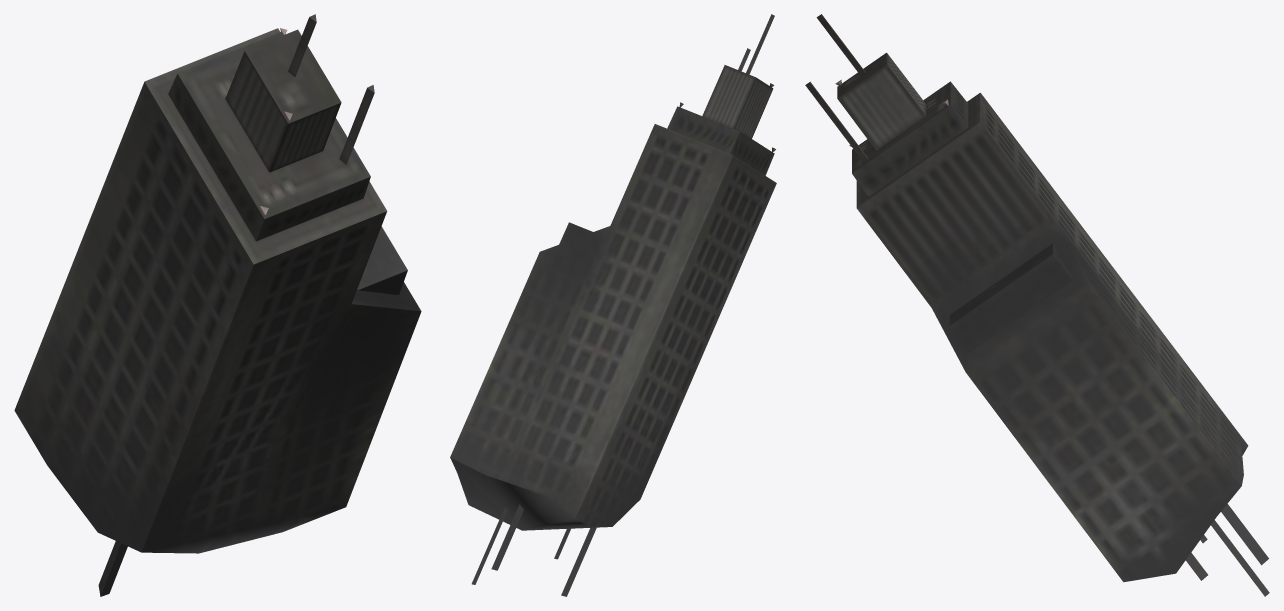
File: skyBuildingAAB_pos_grp (9).fbx
3 renders of one model, left to right at view 1: azimuth 30°, elevation 25°; view 2: azimuth 150°, elevation 25°; view 3: azimuth 270°, elevation 25°, orthographic. The views are drawn at different scales.
Parts seen in each view (by area): view 1: skyBuildingAAB_geo; view 2: skyBuildingAAB_geo; view 3: skyBuildingAAB_geo.
Boxes of the visible parts, <box> form: skyBuildingAAB_geo: <box>14,14,421,596</box>; skyBuildingAAB_geo: <box>450,14,776,596</box>; skyBuildingAAB_geo: <box>805,14,1269,596</box>.
Size of the model in its own units: 3.73 by 9.31 by 7.24.
Materials: 1 (1 with a texture image).
